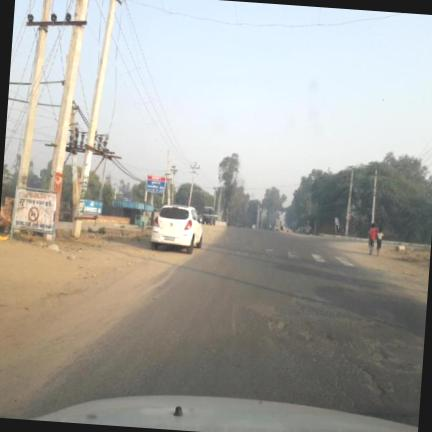Road: (24, 228, 426, 425)
